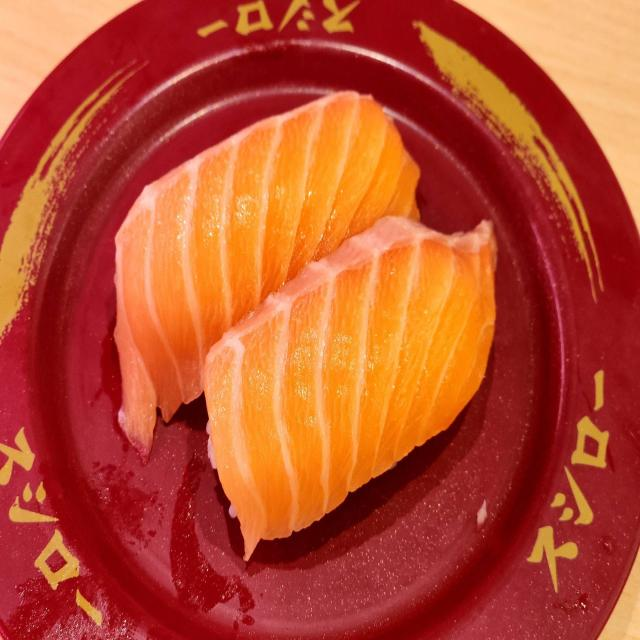janred: (43, 56, 604, 633)
